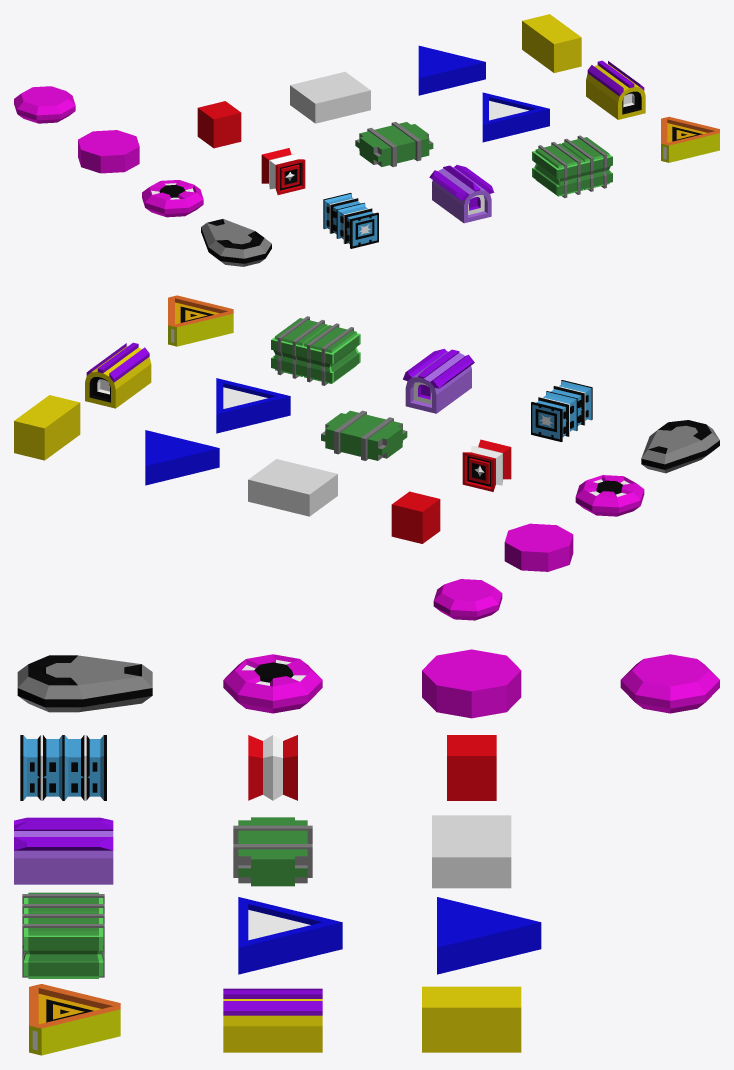
File: valise_violet.fbx
3 views of the same model, one above another, from view 1: azimuth 30°, elevation 25°; view 2: azimuth 150°, elevation 25°; view 3: azimuth 270°, elevation 25° (orthographic). The views are drawn at different scales.
Visible parts, largest first — view 1: valise_vert, rectangle_base, valise_violet, cylindre_long_base, rectangle_nice, cylindre_long_nice, valise_gris, triangle_nice, triangle_base, Cylinder_base, valise_turquoise, valise_jaune (+4 smaller); view 2: valise_vert, rectangle_base, valise_violet, cylindre_long_base, rectangle_nice, cylindre_long_nice, valise_gris, Cylinder_base, triangle_nice, triangle_base, valise_turquoise, valise_jaune (+4 smaller); view 3: valise_vert, valise_violet, cylindre_long_base, valise_gris, cylindre_long_nice, rectangle_base, Cylinder_base, triangle_nice, triangle_base, valise_turquoise, rectangle_nice, valise_jaune (+4 smaller).
Boxes of the visible parts, x1,y1,x2,y2 form: valise_vert: [532, 135, 612, 197]; rectangle_base: [290, 71, 370, 123]; valise_violet: [429, 165, 494, 223]; cylindre_long_base: [522, 14, 581, 72]; rectangle_nice: [355, 122, 433, 166]; cylindre_long_nice: [586, 60, 645, 119]; valise_gris: [201, 219, 271, 266]; triangle_nice: [482, 92, 549, 142]; triangle_base: [418, 45, 485, 95]; Cylinder_base: [78, 130, 139, 173]; valise_turquoise: [323, 193, 378, 248]; valise_jaune: [661, 116, 719, 162]; valise_vert: [271, 316, 360, 385]; rectangle_base: [248, 459, 337, 516]; valise_violet: [403, 348, 474, 413]; cylindre_long_base: [14, 395, 80, 460]; rectangle_nice: [321, 410, 407, 460]; cylindre_long_nice: [85, 342, 151, 408]; valise_gris: [641, 420, 719, 473]; Cylinder_base: [504, 523, 573, 571]; triangle_nice: [216, 378, 290, 433]; triangle_base: [145, 430, 219, 485]; valise_turquoise: [531, 380, 592, 441]; valise_jaune: [168, 295, 233, 346]; valise_vert: [22, 892, 104, 978]; valise_violet: [14, 817, 113, 884]; cylindre_long_base: [422, 986, 521, 1052]; valise_gris: [17, 655, 152, 712]; cylindre_long_nice: [223, 988, 322, 1052]; rectangle_base: [432, 815, 511, 888]; Cylinder_base: [422, 649, 521, 718]; triangle_nice: [238, 897, 342, 974]; triangle_base: [437, 897, 541, 974]; valise_turquoise: [20, 735, 106, 800]; rectangle_nice: [233, 817, 312, 886]; valise_jaune: [29, 984, 120, 1055].
Size of the model in its own units: 903 by 62.08 by 711.
